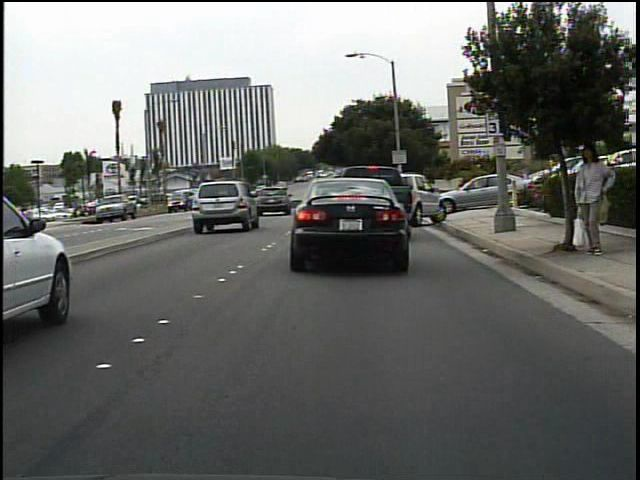person: (570, 138, 618, 259)
